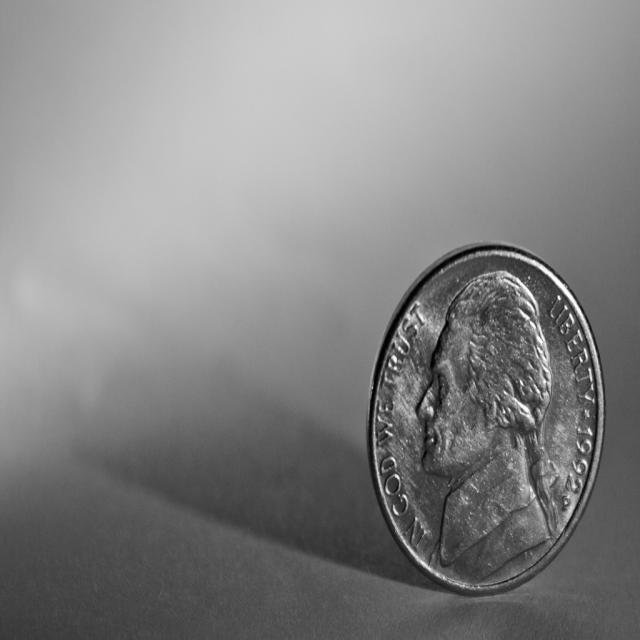Coin: (366, 239, 604, 594)
